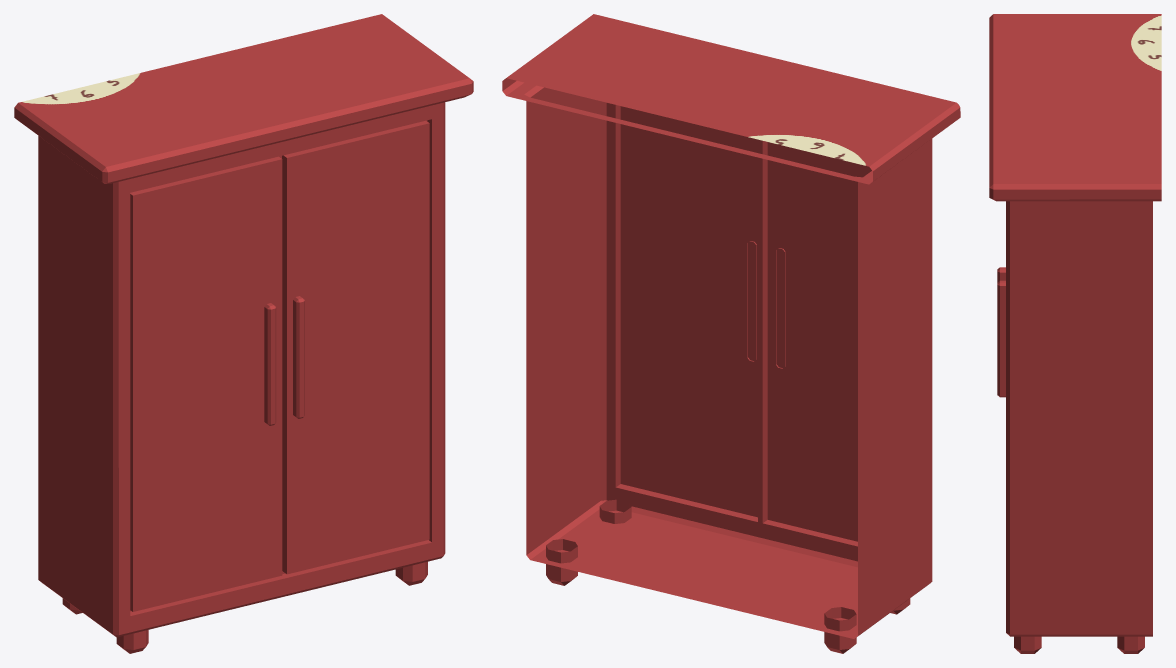
The model's file is closet 1.fbx.
The picture shows the model from 3 angles, left to right: view 1: azimuth 30°, elevation 25°; view 2: azimuth 150°, elevation 25°; view 3: azimuth 270°, elevation 25°; orthographic projection. The views are drawn at different scales.
Visible parts, largest first — view 1: closet; view 2: closet; view 3: closet.
Part boxes in pixels (box(x1,y1,x2,y2)): closet: box(14, 14, 473, 653); closet: box(502, 14, 960, 653); closet: box(989, 14, 1161, 653).
Size of the model in its own units: 168 by 219 by 70.32.
1 material, 1 textured.
